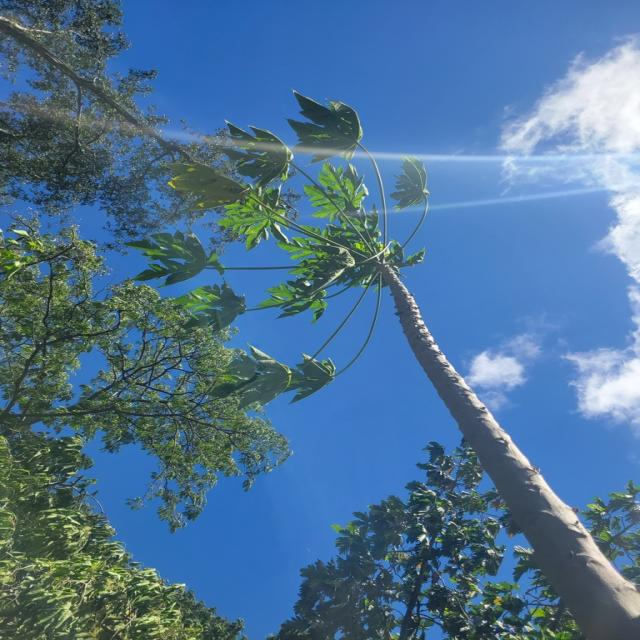Papaya-Tree: (266, 136, 640, 617)
